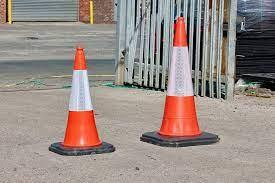traffic cone: (140, 15, 220, 148), (48, 47, 115, 156)
